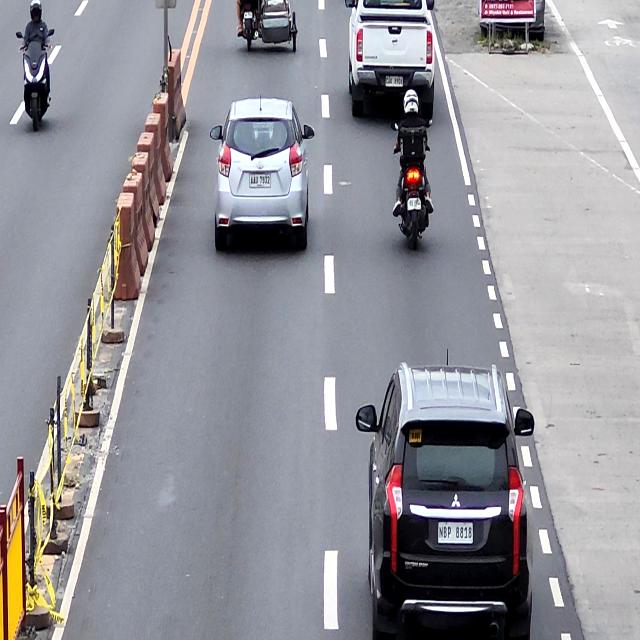Car: (357, 357, 533, 640), (209, 100, 314, 259), (346, 0, 434, 115)
License-Plate: (437, 520, 474, 546), (249, 172, 272, 190), (406, 196, 422, 212), (385, 75, 404, 88), (244, 12, 253, 18)
Motorcycle: (392, 119, 435, 253)
Tricycle: (237, 0, 299, 55)
